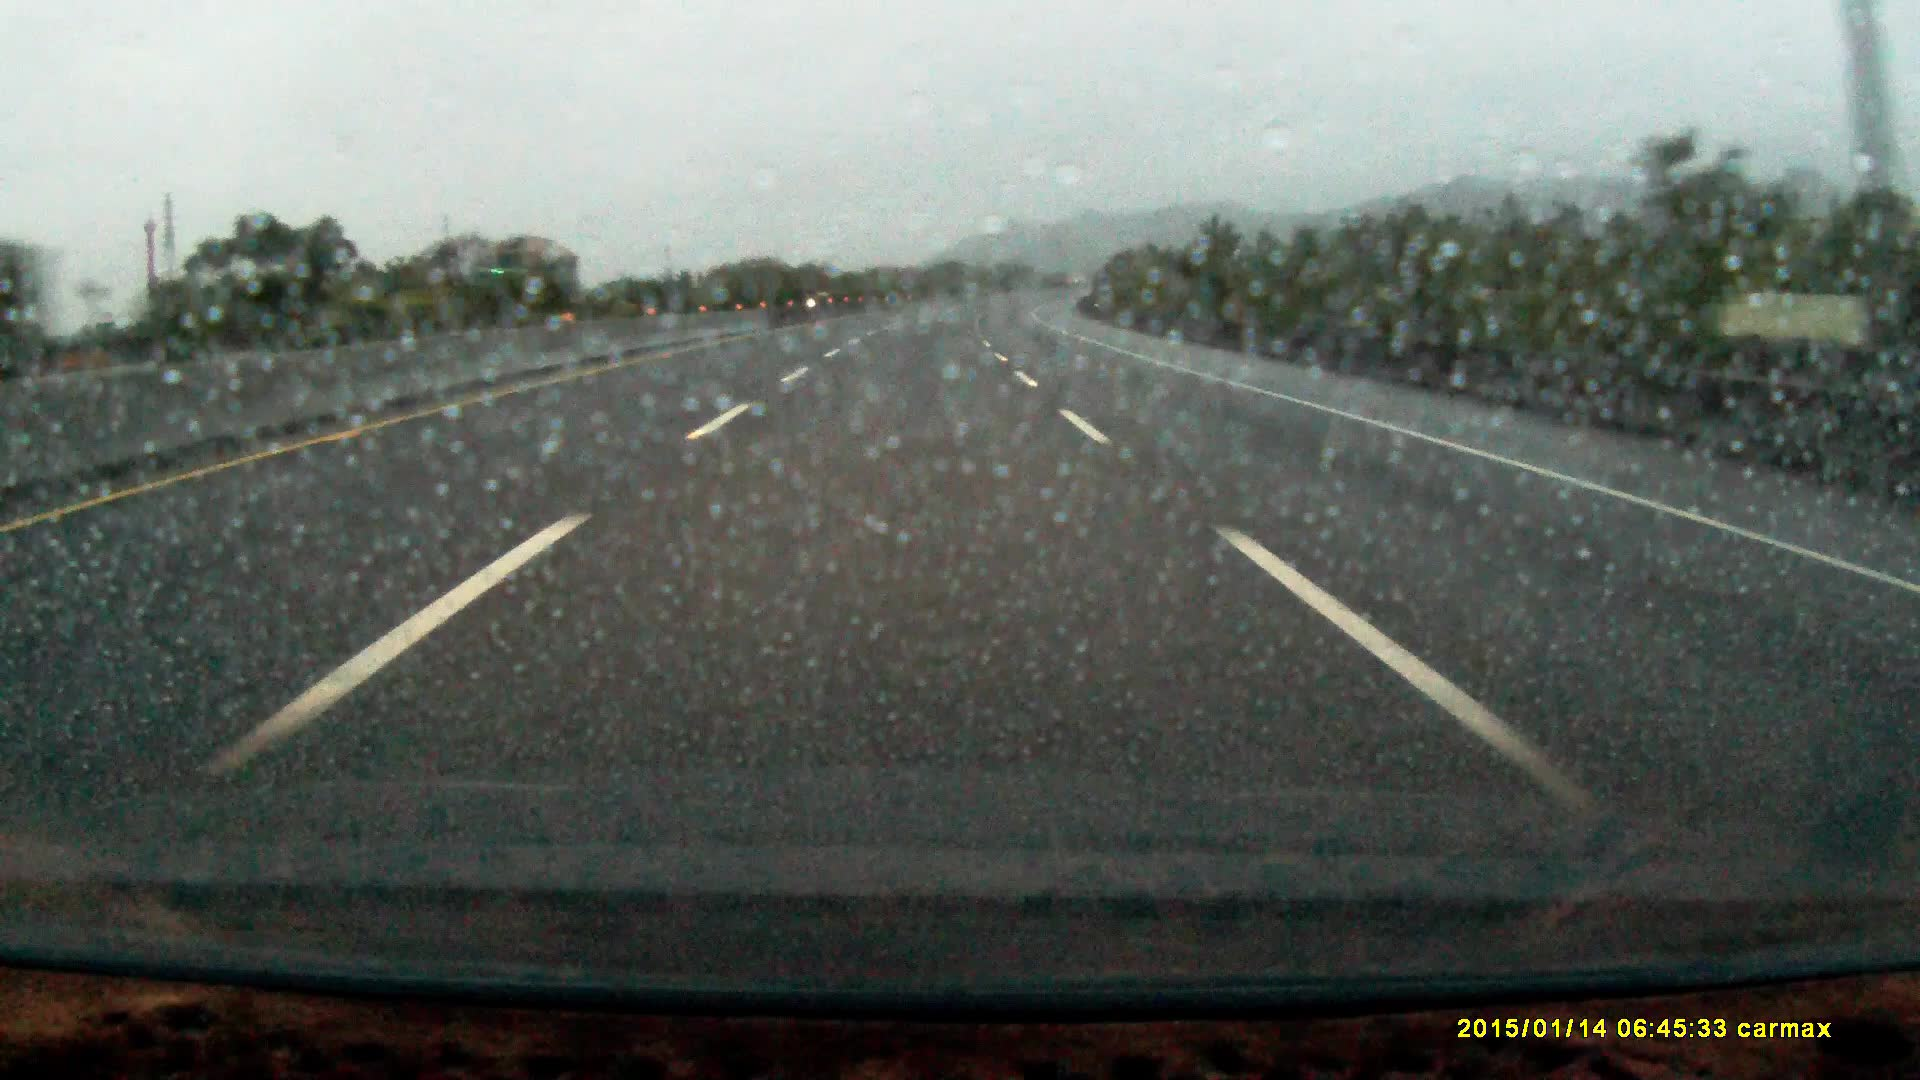vehicle: (469, 231, 582, 323)
